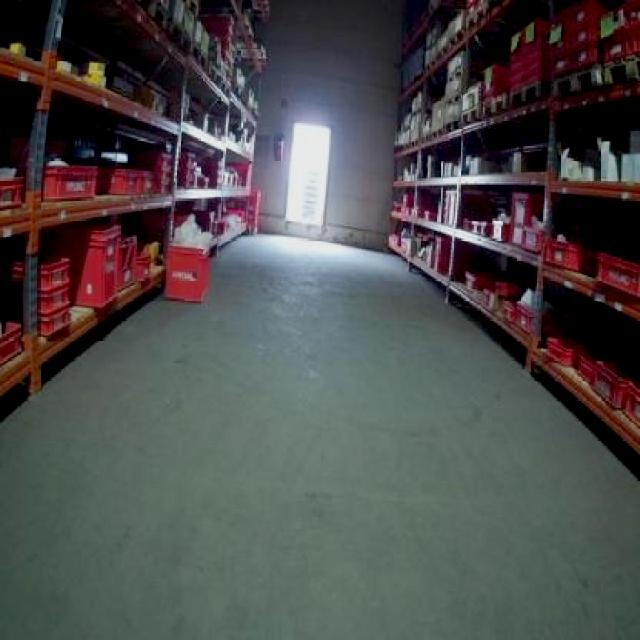floor: (0, 234, 637, 637)
